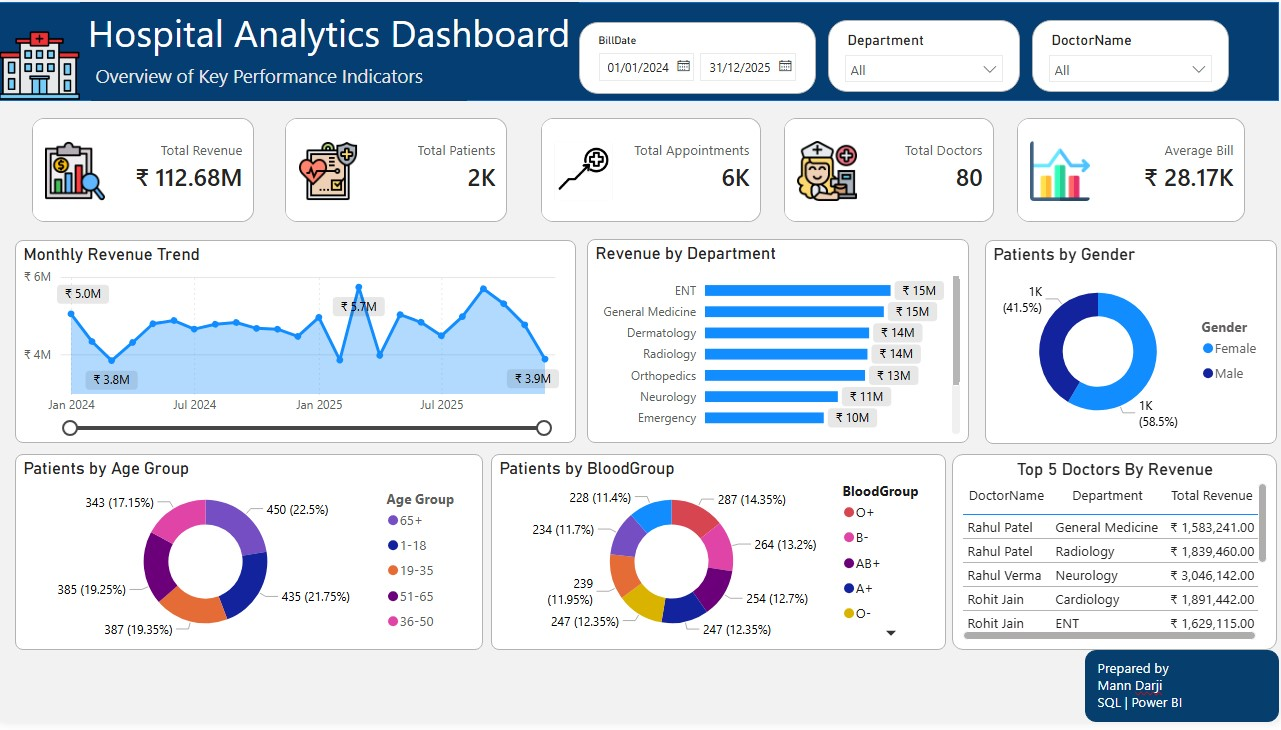

This screenshot's page, from the dashboard's own definition file:
{"tool":"powerbi","page":{"name":"Page 1","canvas":[1280,720],"ordinal":0},"visuals":[{"type":"cardVisual","fields":{"Data":["Billing.Total Revenue"]},"box":[16,99,256,138],"z":0},{"type":"shape","box":[0,0,1280,99],"z":1000},{"type":"textbox","box":[81,0,499,64],"z":2000},{"type":"image","box":[0,14,81,99],"z":3000},{"type":"textbox","box":[92,56,376,43],"z":4000},{"type":"cardVisual","fields":{"Data":["Patients.Total Patients"]},"box":[269,99,256,138],"z":5000},{"type":"cardVisual","fields":{"Data":["Appointments.Total Appointments"]},"box":[525,99,254,138],"z":6000},{"type":"cardVisual","fields":{"Data":["Doctors.Total Doctors"]},"box":[768,99,244,138],"z":7000},{"type":"cardVisual","fields":{"Data":["Billing.Average Bill"]},"box":[1001,99,262,138],"z":8000},{"type":"lineChart","title":"Monthly Revenue Trend","fields":{"Category":["Billing.Year Month"],"Y":["Billing.Total Revenue"]},"box":[16,238,561,203],"z":9000},{"type":"clusteredBarChart","title":"Revenue by Department","fields":{"Y":["Billing.Total Revenue"],"Category":["Doctors.Department"]},"box":[588,237,382,204],"z":10000},{"type":"donutChart","title":"Patients by Gender","fields":{"Category":["Patients.Gender"],"Y":["Patients.Total Patients"]},"box":[986,238,292,204],"z":11000},{"type":"donutChart","title":"Patients by Age Group","fields":{"Y":["Patients.Total Patients"],"Category":["Patients.Age Group"]},"box":[16,452,468,196],"z":12000},{"type":"donutChart","title":"Patients by BloodGroup","fields":{"Category":["Patients.BloodGroup"],"Y":["Patients.Total Patients"]},"box":[492,452,455,196],"z":14000},{"type":"slicer","fields":{"Values":["Billing.BillDate"]},"box":[580,20,237,72],"z":15000},{"type":"slicer","fields":{"Values":["Doctors.Department"]},"box":[829,18,192,72],"z":16000},{"type":"slicer","fields":{"Values":["Doctors.DoctorName"]},"box":[1033,18,197,72],"z":17000},{"type":"tableEx","title":"Top 5 Doctors By Revenue","fields":{"Values":["Doctors.DoctorName","Doctors.Department","Billing.Total Revenue"]},"box":[953,452,325,196],"z":17001},{"type":"shape","box":[1086,648,194,72],"z":17002},{"type":"textbox","box":[1094,652,111,68],"z":17003}]}

Visuals, with their boxes in screenshot pixels (x1, y1, x2, y2), scaled from the page's 1280x720 canvas onto the 1281x730 screenshot:
cardVisual - Billing.Total Revenue: Rect(16, 100, 272, 240)
shape: Rect(0, 0, 1280, 100)
textbox: Rect(81, 0, 580, 65)
image: Rect(0, 14, 81, 115)
textbox: Rect(92, 57, 468, 100)
cardVisual - Patients.Total Patients: Rect(269, 100, 525, 240)
cardVisual - Appointments.Total Appointments: Rect(525, 100, 780, 240)
cardVisual - Doctors.Total Doctors: Rect(769, 100, 1013, 240)
cardVisual - Billing.Average Bill: Rect(1002, 100, 1264, 240)
"Monthly Revenue Trend" lineChart: Rect(16, 241, 577, 447)
"Revenue by Department" clusteredBarChart: Rect(588, 240, 971, 447)
"Patients by Gender" donutChart: Rect(987, 241, 1279, 448)
"Patients by Age Group" donutChart: Rect(16, 458, 484, 657)
"Patients by BloodGroup" donutChart: Rect(492, 458, 948, 657)
slicer - Billing.BillDate: Rect(580, 20, 818, 93)
slicer - Doctors.Department: Rect(830, 18, 1022, 91)
slicer - Doctors.DoctorName: Rect(1034, 18, 1231, 91)
"Top 5 Doctors By Revenue" tableEx: Rect(954, 458, 1279, 657)
shape: Rect(1087, 657, 1280, 729)
textbox: Rect(1095, 661, 1206, 729)
